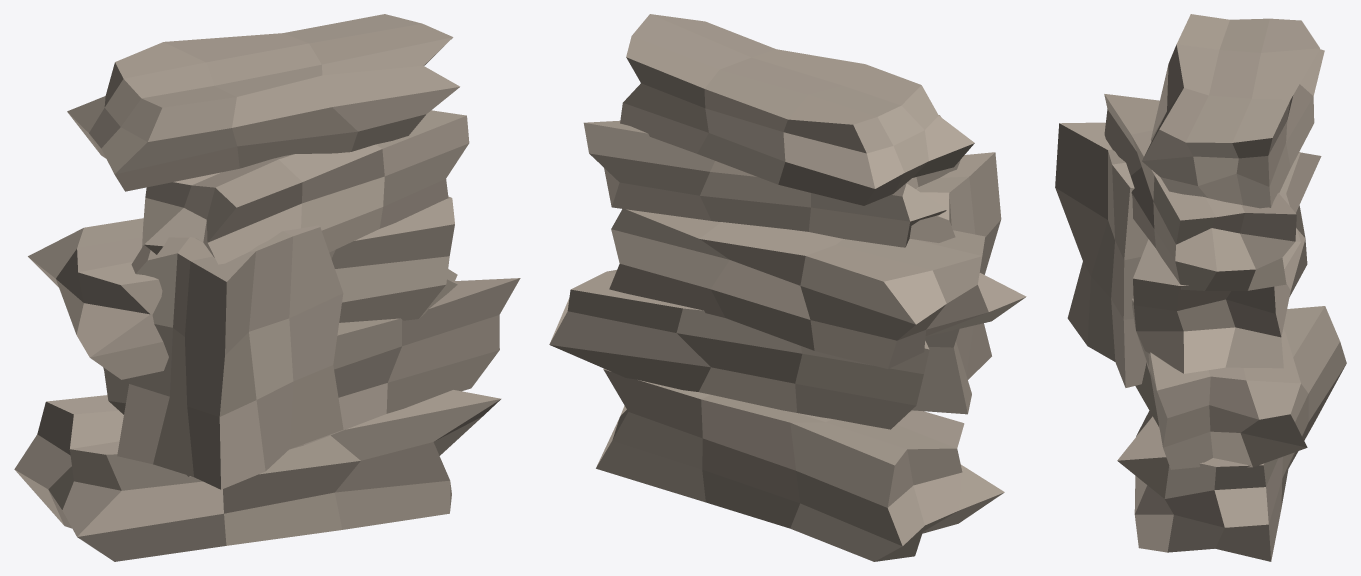
File: SM_Cliff_CabinFace.fbx
3 renders of one model, left to right at view 1: azimuth 30°, elevation 25°; view 2: azimuth 150°, elevation 25°; view 3: azimuth 270°, elevation 25°, orthographic. The views are drawn at different scales.
Parts seen in each view (by area): view 1: SM_Cliff_CabinFace; view 2: SM_Cliff_CabinFace; view 3: SM_Cliff_CabinFace.
Boxes of the visible parts, x1,y1,x2,y2 form: SM_Cliff_CabinFace: (14,14,520,561); SM_Cliff_CabinFace: (549,14,1026,561); SM_Cliff_CabinFace: (1055,14,1346,561).
Size of the model in its own units: 3.87 by 6.14 by 6.14.
